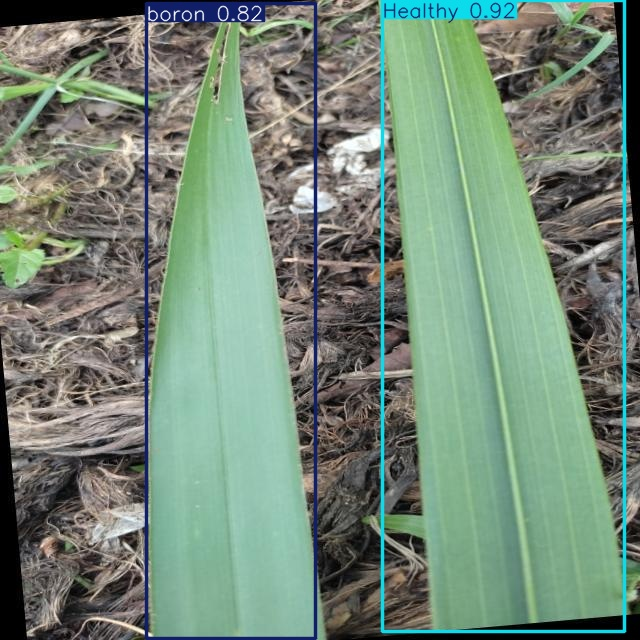Healthy: (382, 0, 625, 632)
nitrogen: (146, 3, 316, 639)
